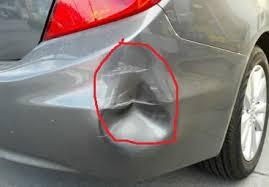dent: (91, 61, 186, 158)
